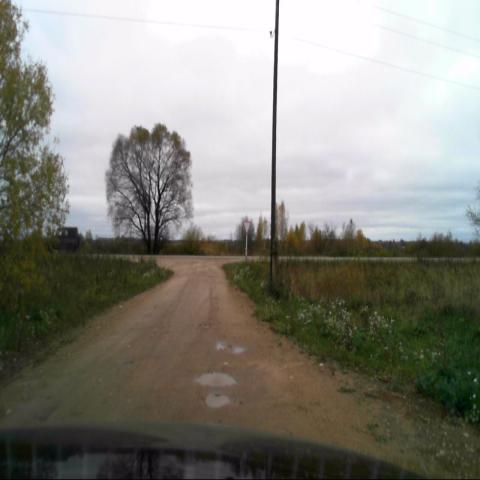2_4: (243, 221, 251, 236)
